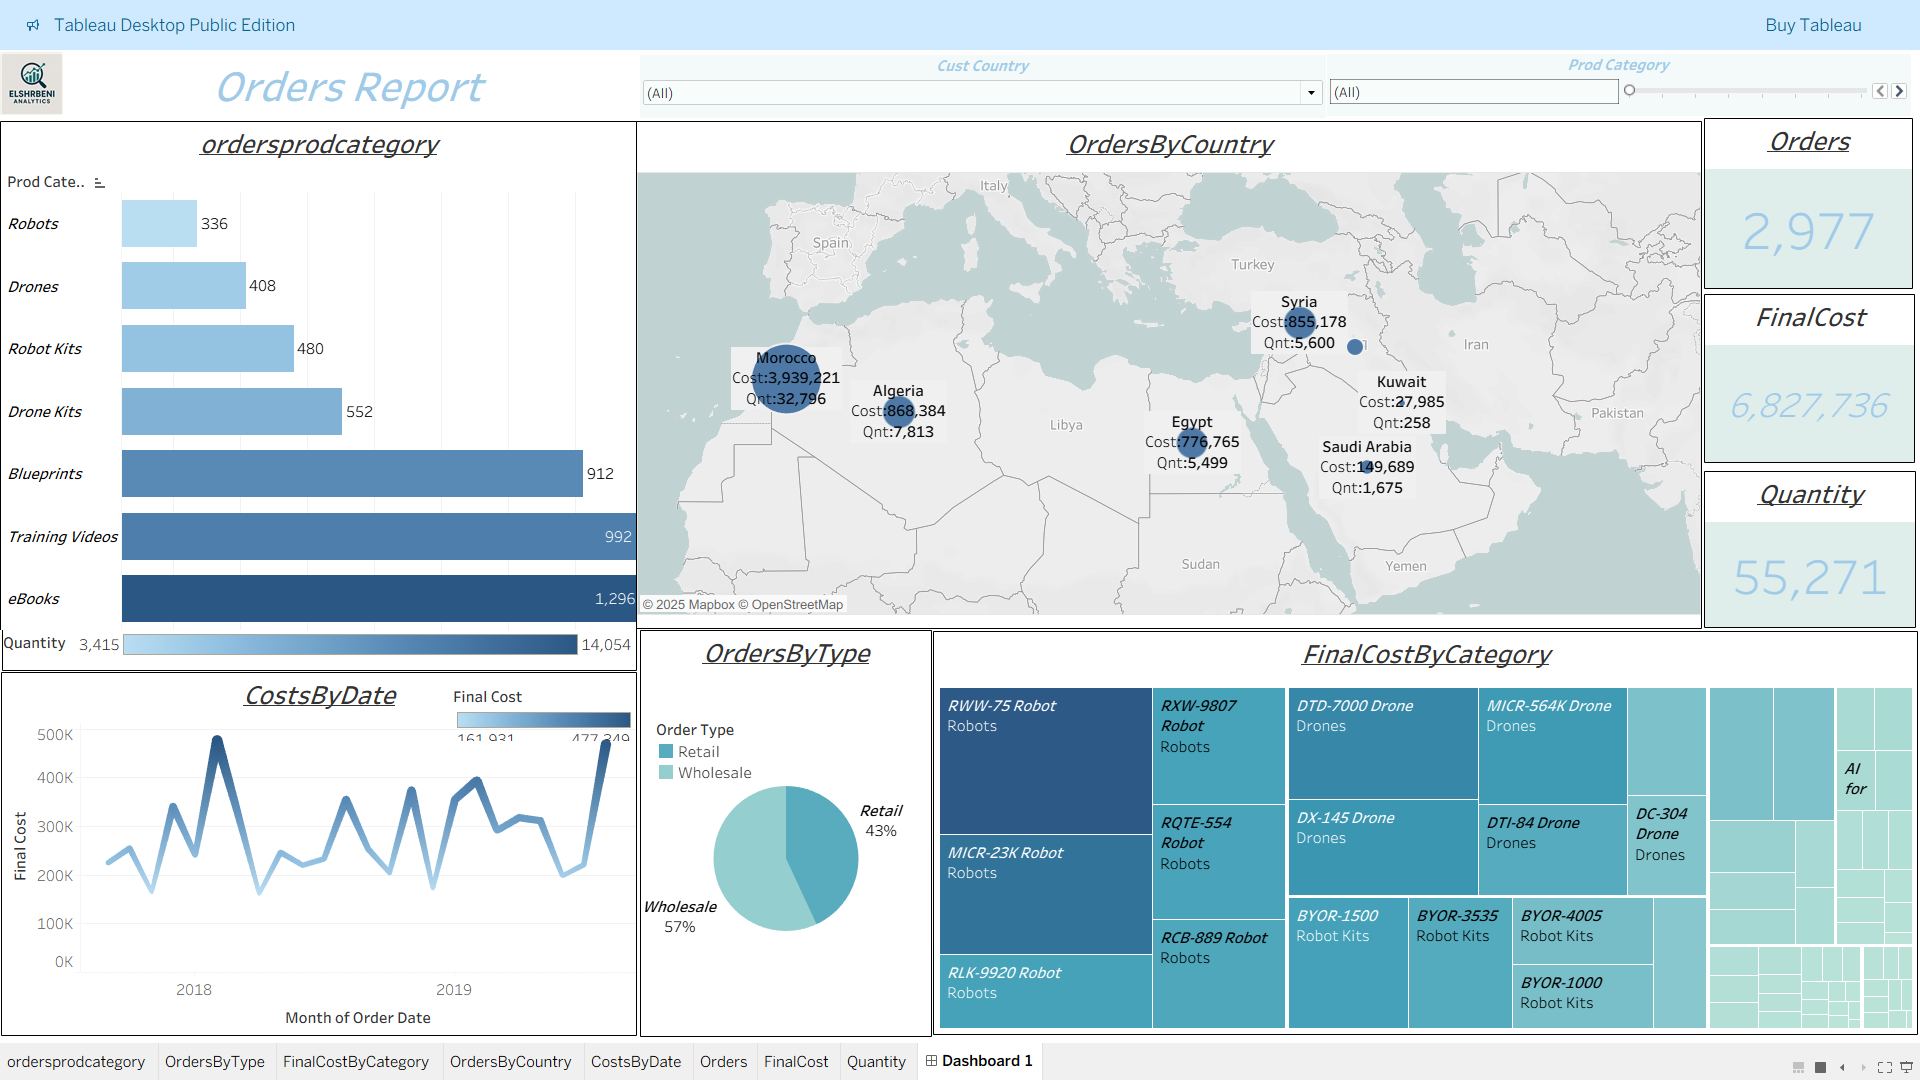

The dashboard page shown, as its layout file describes it:
{"tool":"tableau","page":{"name":"Dashboard 1","canvas":[1000,1000],"units":"permille","ordinal":0},"visuals":[{"type":"image","param":"C:/Users/ahmed/Downloads/ChatGPT Image Jul 1, 2025, 01_19_24 AM.png","box":[0,2.5,32.6,71.2]},{"type":"text","box":[33.8,2.5,297.5,66.2]},{"type":"filter","title":"ordersprodcategory","param":"[federated.1k90kwa0wfipk219tmgd1025n26o].[none:ProdCategory:nk]","box":[691,3.8,304.2,62.4]},{"type":"filter","title":"OrdersByCountry","param":"[federated.1k90kwa0wfipk219tmgd1025n26o].[none:CustCountry:nk]","box":[333.1,5,357.3,63.7]},{"type":"worksheet","title":"Orders","mark":"Automatic","box":[887.8,68.7,108.6,172.3]},{"type":"worksheet","title":"ordersprodcategory","mark":"Automatic","rows":["ProdCategory"],"cols":["Sheet1_93B09FB4639C4E23960E81C8C4C5AB4E"],"box":[0,71.2,331.9,513.1]},{"type":"worksheet","title":"OrdersByCountry","mark":"Automatic","box":[331.3,71.2,555.2,511.9]},{"type":"worksheet","title":"FinalCost","mark":"Automatic","box":[887.8,245.9,109.8,169.8]},{"type":"worksheet","title":"Quantity","mark":"Automatic","box":[887.8,424.5,110.4,158.6]},{"type":"legend","title":"ordersprodcategory","param":"[federated.1k90kwa0wfipk219tmgd1025n26o].[sum:Quantity:qk]","box":[1.2,583,330.7,42.5]},{"type":"worksheet","title":"OrdersByType","mark":"Pie","box":[333.1,584.3,152.1,409.5]},{"type":"worksheet","title":"FinalCostByCategory","mark":"Automatic","box":[485.8,585.5,513,407]},{"type":"worksheet","title":"CostsByDate","mark":"Automatic","rows":["Calculation_1961599139203383296"],"cols":["OrderDate"],"box":[0.6,626.7,331.3,367]},{"type":"legend","title":"CostsByDate","param":"[federated.1k90kwa0wfipk219tmgd1025n26o].[sum:Calculation_1961599139203383296:qk","box":[236,640.5,94.8,54.9]},{"type":"legend","title":"OrdersByType","param":"[federated.1k90kwa0wfipk219tmgd1025n26o].[none:OrderType:nk]","box":[341.6,674.2,51.9,79.9]}]}

Visuals, with their boxes on the dashboard's canvas, which has no fixed pixel size, in thousandths of its width and height (x1, y1, x2, y2). These are canvas units, not pixel positions in the 1920x1080 screenshot, which may show the page scaled, cropped or inside an application window:
image: 0:2:33:74
text: 34:2:331:69
"ordersprodcategory" filter: 691:4:995:66
"OrdersByCountry" filter: 333:5:690:69
"Orders" worksheet: 888:69:996:241
"ordersprodcategory" worksheet: 0:71:332:584
"OrdersByCountry" worksheet: 331:71:886:583
"FinalCost" worksheet: 888:246:998:416
"Quantity" worksheet: 888:424:998:583
"ordersprodcategory" legend: 1:583:332:626
"OrdersByType" worksheet (Pie marks): 333:584:485:994
"FinalCostByCategory" worksheet: 486:586:999:992
"CostsByDate" worksheet: 1:627:332:994
"CostsByDate" legend: 236:640:331:695
"OrdersByType" legend: 342:674:394:754
